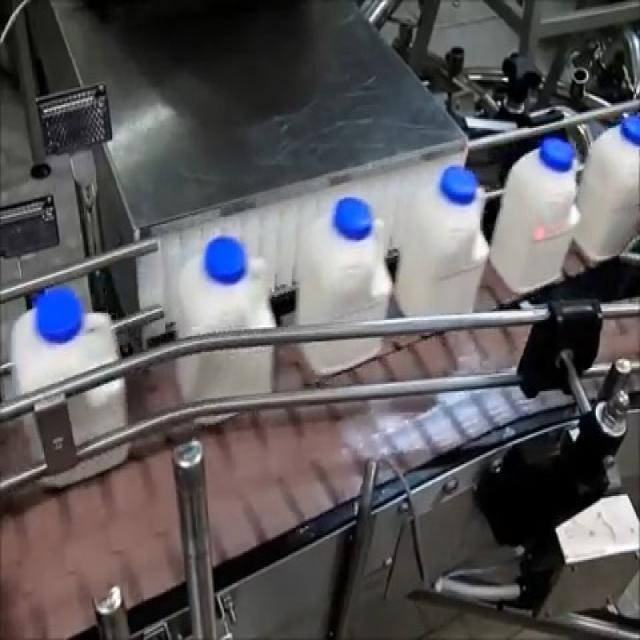blue: (166, 235, 294, 443), (14, 273, 142, 473), (294, 190, 394, 374), (508, 130, 584, 311), (420, 171, 482, 322), (615, 104, 640, 273)
